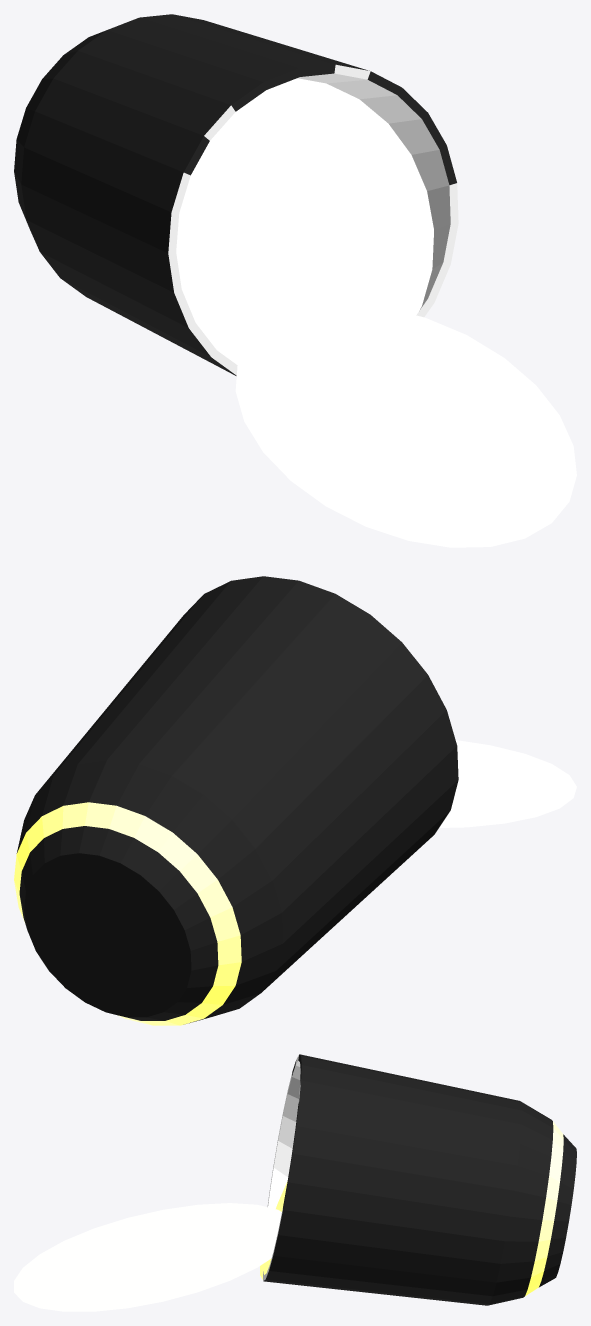
Rendered from container12.glb.
3 views of the same model, one above another, from view 1: azimuth 30°, elevation 25°; view 2: azimuth 150°, elevation 25°; view 3: azimuth 270°, elevation 25° (orthographic). The views are drawn at different scales.
Parts seen in each view (by area): view 1: Cylinder.011, Cylinder.018, Cylinder.012; view 2: Cylinder.011, Cylinder.018; view 3: Cylinder.011, Cylinder.018.
Part boxes in pixels (x1,y1,x2,y2): Cylinder.011: (14, 14, 458, 375); Cylinder.018: (235, 306, 576, 547); Cylinder.012: (176, 78, 433, 364); Cylinder.011: (14, 576, 458, 1025); Cylinder.018: (439, 740, 576, 827); Cylinder.011: (263, 1054, 576, 1305); Cylinder.018: (14, 1203, 281, 1311).
Size of what is drawn, in the model's own units: 2.39 by 2.64 by 5.85.
Materials: 2 (1 with a texture image).
